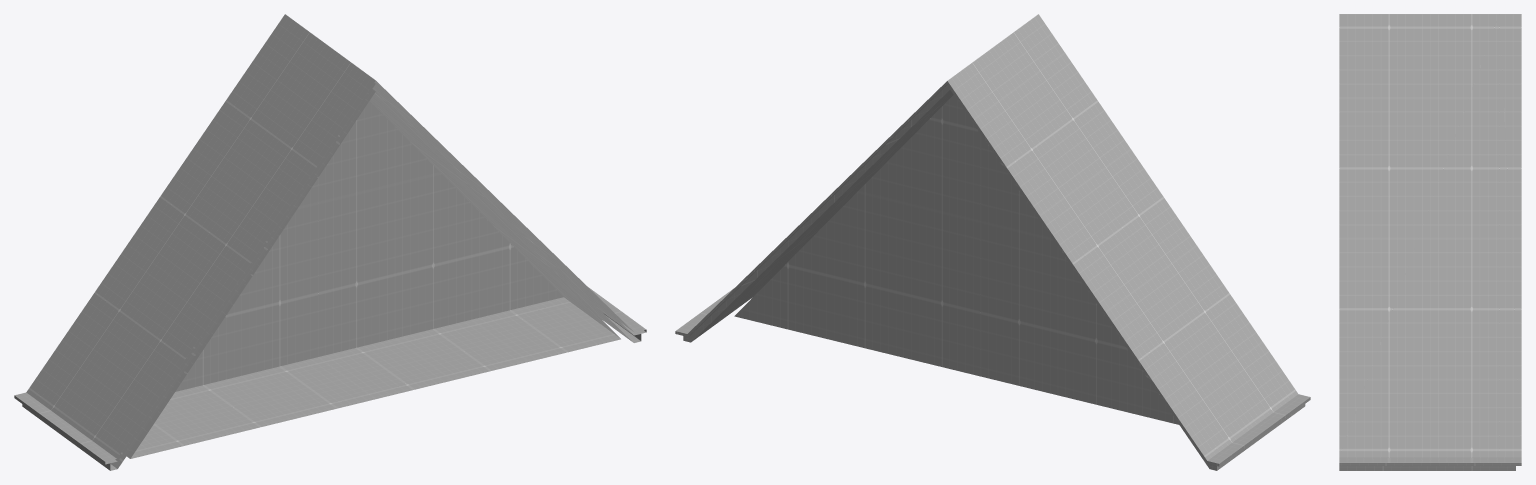
Rendered from HighRoof.005.fbx.
3 views of the same model, side by side, from view 1: azimuth 30°, elevation 25°; view 2: azimuth 150°, elevation 25°; view 3: azimuth 270°, elevation 25° (orthographic).
Visible parts, largest first — view 1: HighRoof.005; view 2: HighRoof.005; view 3: HighRoof.005.
Boxes of the visible parts, x1,y1,x2,y2 form: HighRoof.005: (14, 14, 646, 470); HighRoof.005: (675, 14, 1310, 470); HighRoof.005: (1339, 14, 1521, 470).
Size of the model in its own units: 706 by 406 by 205.
